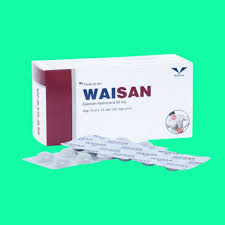Waisan: (80, 85, 155, 99)
